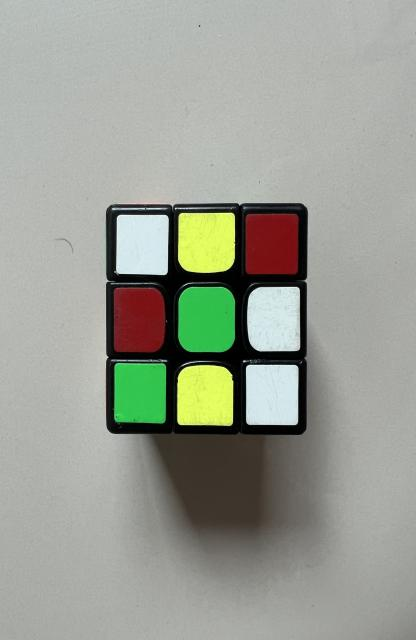Green: (178, 286, 235, 352), (114, 362, 166, 424)
Red: (114, 288, 166, 352), (246, 214, 298, 275)
White: (247, 286, 300, 351), (116, 215, 169, 275), (246, 365, 299, 425)
Yellow: (177, 365, 234, 426), (178, 212, 235, 272)
